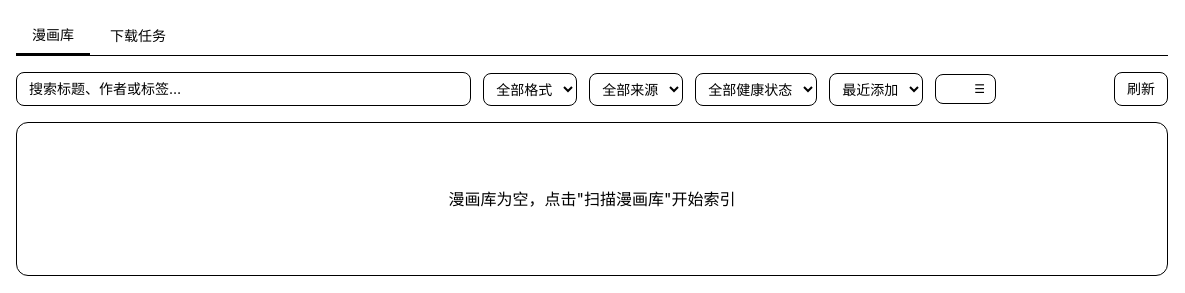
DownloadPage › shows error message for failed tasks
Click the button with test id "subtab-tasks" at (138, 36), box top-left (94, 18), bottom-right (182, 54)
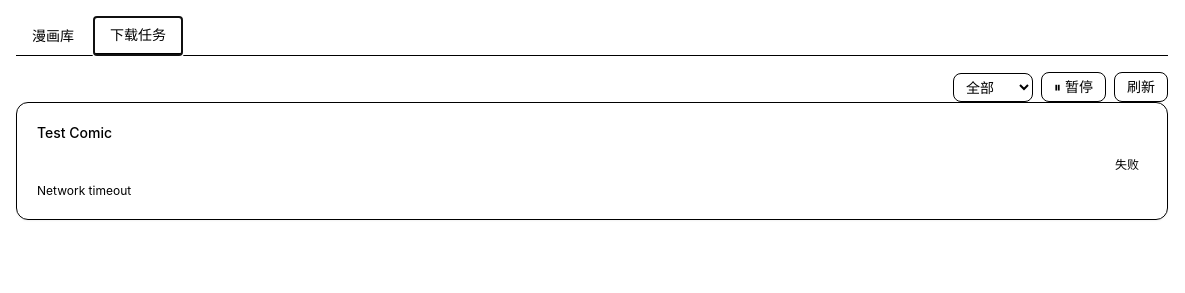
Check: the text "Network timeout" is shown, box top-left (37, 183), bottom-right (131, 198)
